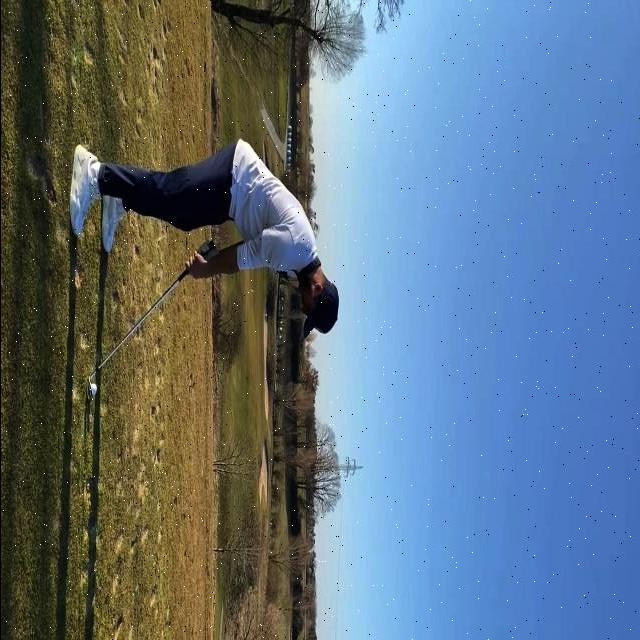ClubHandle: (83, 240, 214, 403)
ClubHead: (82, 379, 91, 402)
GolfBall: (90, 384, 96, 393)
